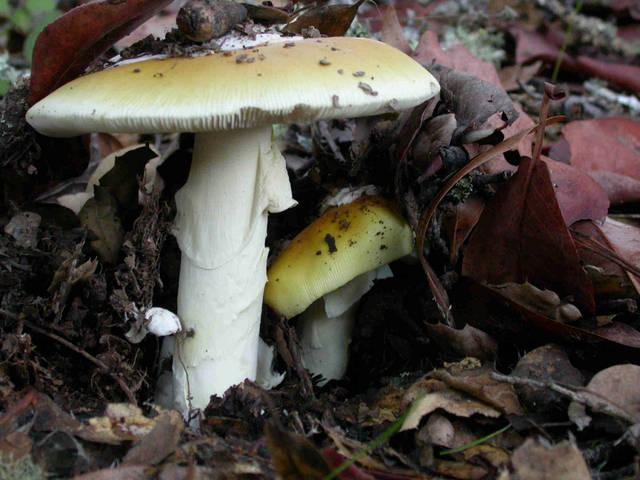edible_mushroom: (24, 32, 441, 426), (260, 192, 416, 388)
